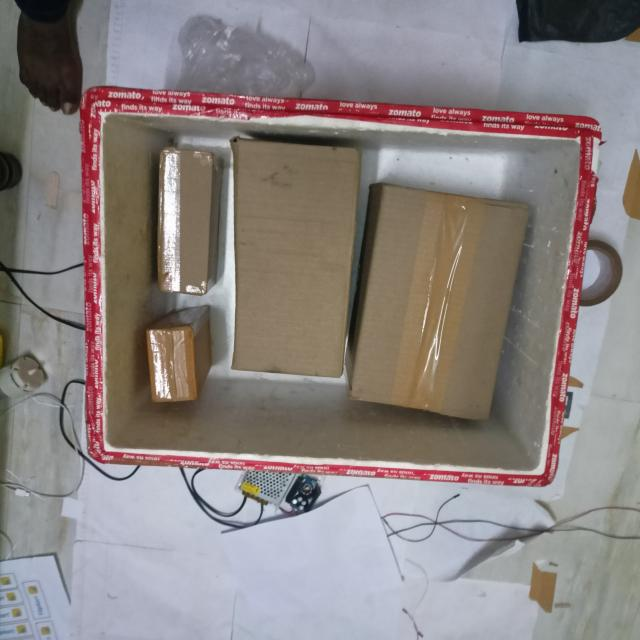box: (365, 188, 530, 422), (233, 140, 364, 375), (155, 153, 213, 291), (141, 327, 199, 402)
